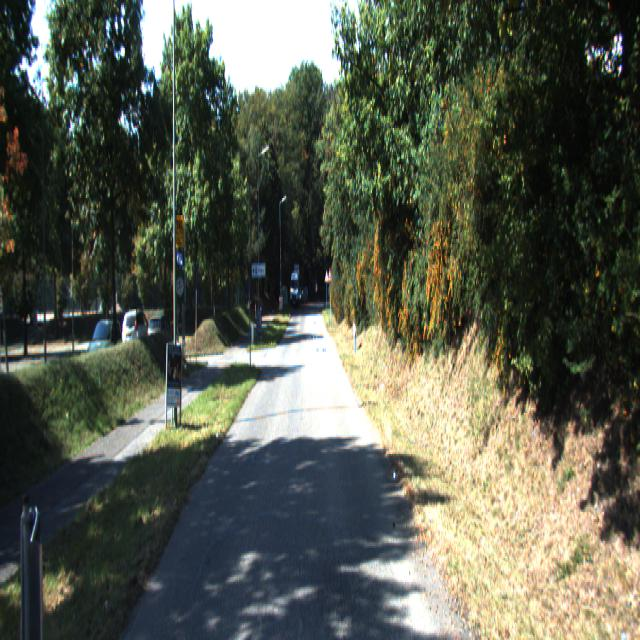Car: (85, 316, 126, 379), (121, 309, 152, 355)
